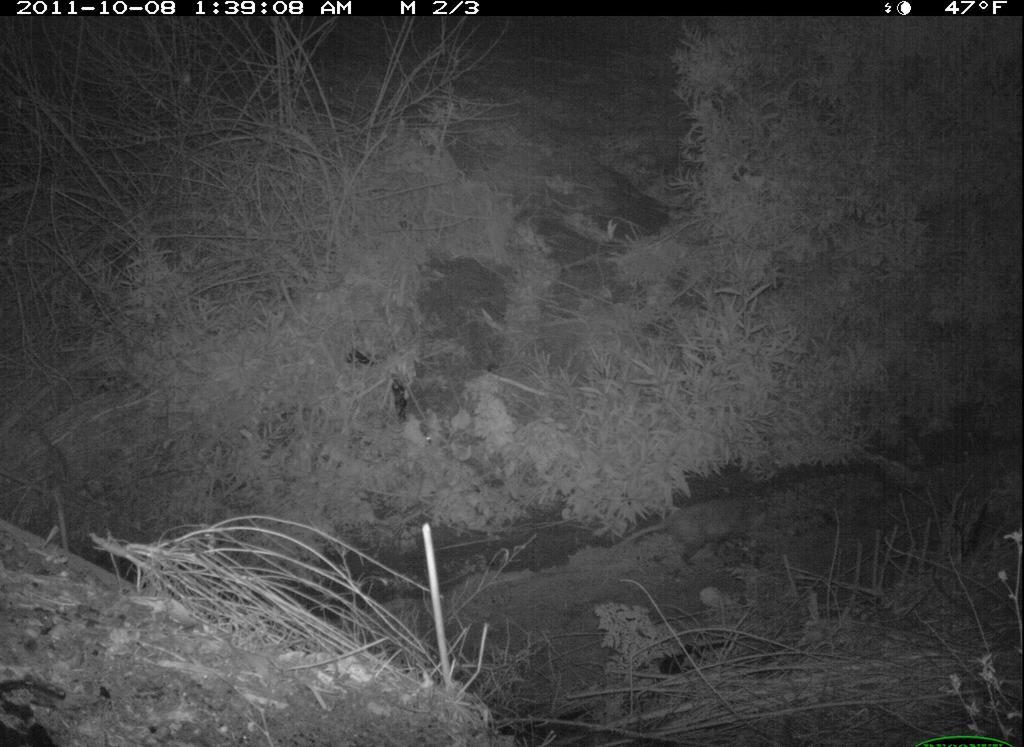opossum: (623, 494, 774, 566)
